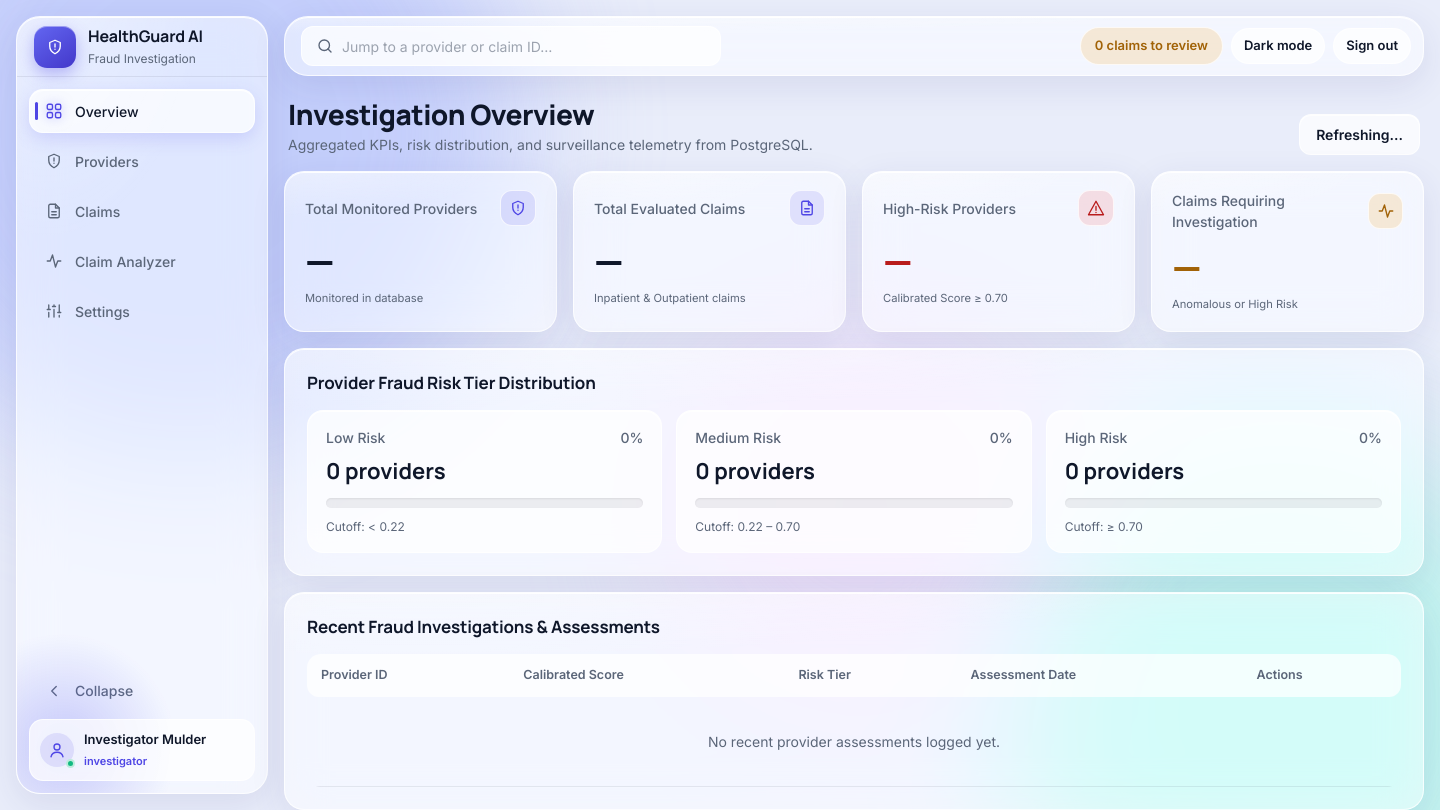
Test case: HealthGuard AI Frontend Integration Tests › Claim Fraud Analyzer Probability & Risk Tier Validation › displays full SHAP factor attributions, actual feature values, and Bi-LSTM temporal sequence dynamics
Expected: the text "Investigator Mulder" is shown, [84,730,206,749]
Click the button "Claim Analyzer" at (142, 261), box [29,239,255,283]
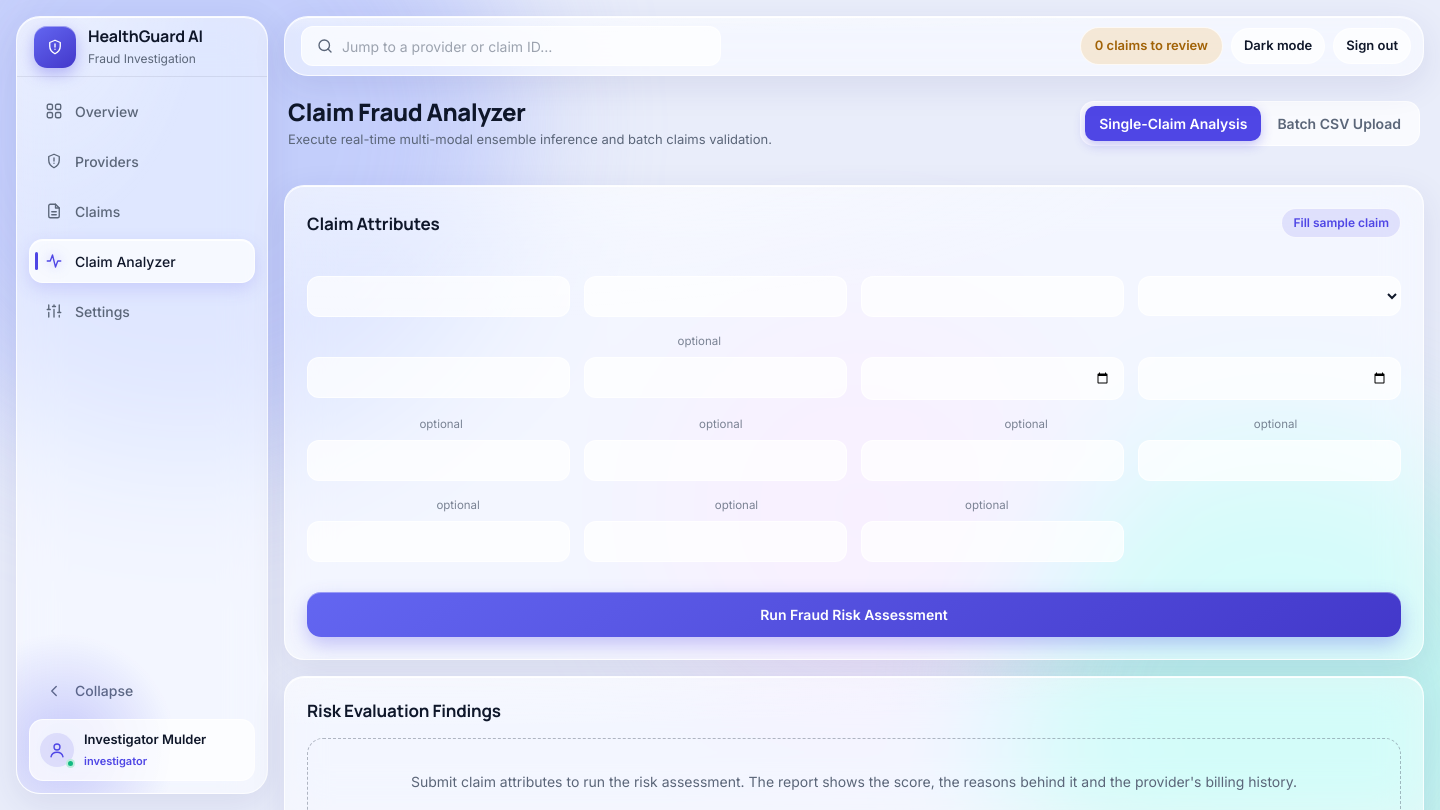
Click the button "Run Fraud Risk Assessment" at (854, 615), box [307,592,1401,637]
(page scrolled)
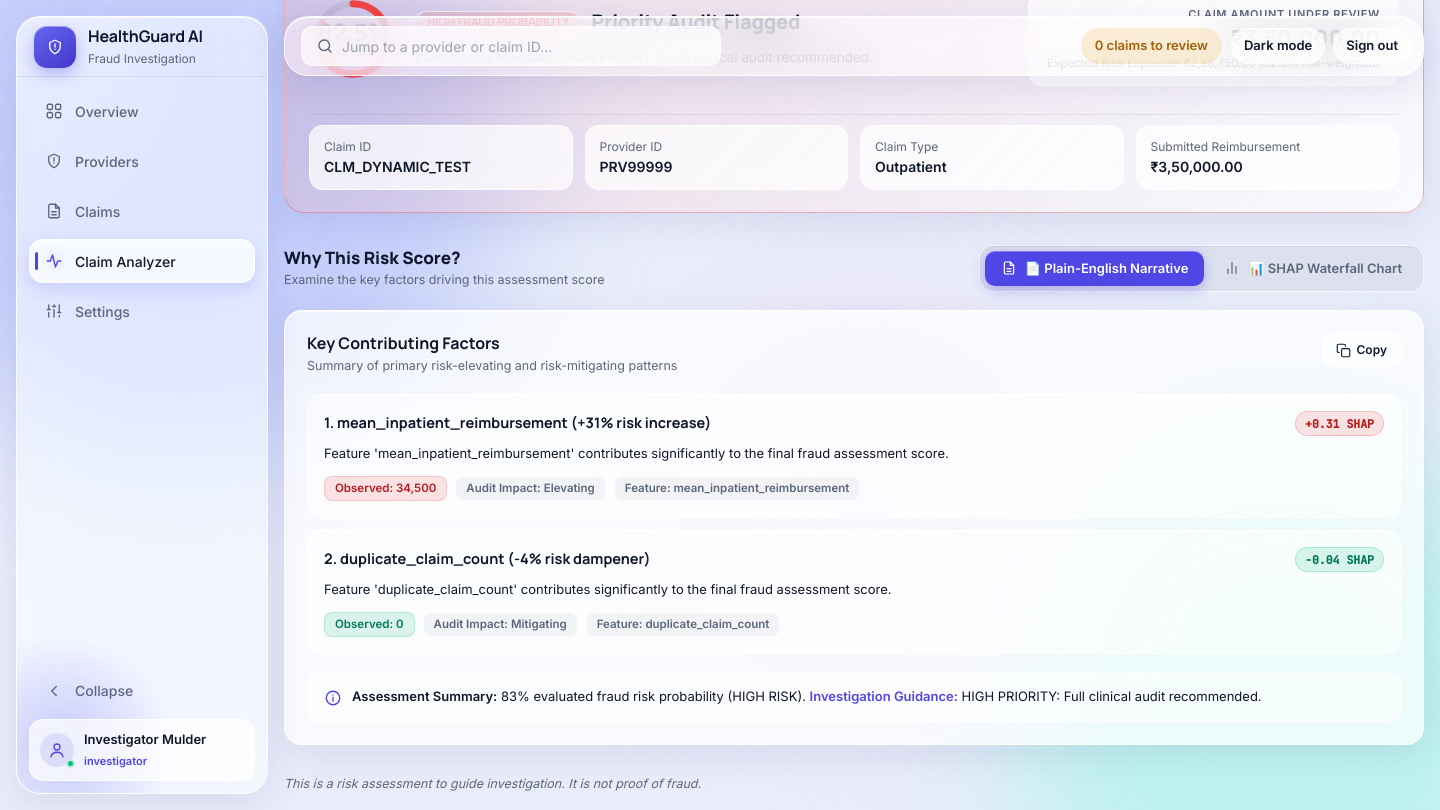
Expected: the text with test id "risk-score-value" reads "82.5%", [318,15,388,48]
Expected: the element with test id "investigation-recommendation" shows "HIGH PRIORITY: Full clinical audit recommended.", [561,49,873,65]
Expected: the text "1. mean_inpatient_reimbursement (+31% risk increase)" is shown, [324,414,711,433]
